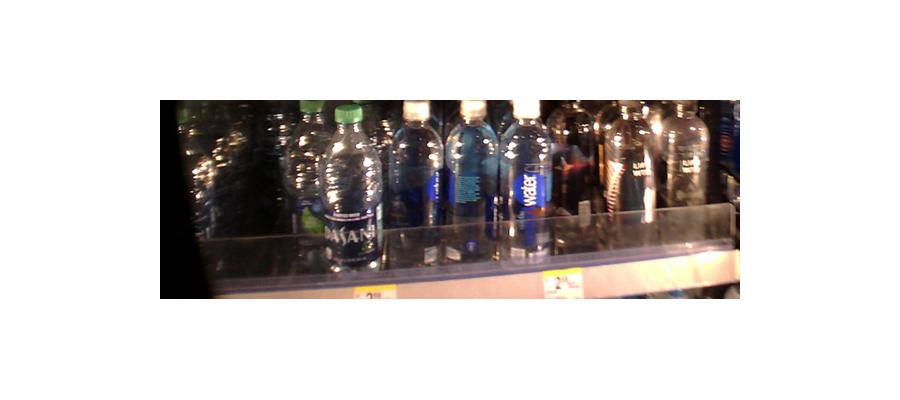bottle: (319, 100, 378, 271), (383, 102, 441, 265), (443, 98, 497, 265), (604, 95, 656, 247), (500, 105, 551, 259), (554, 94, 599, 245), (663, 97, 710, 233)
